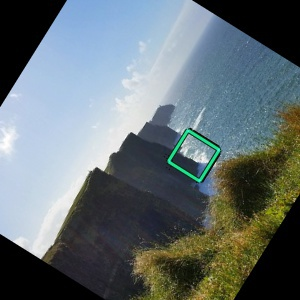square: (164, 126, 223, 184)
